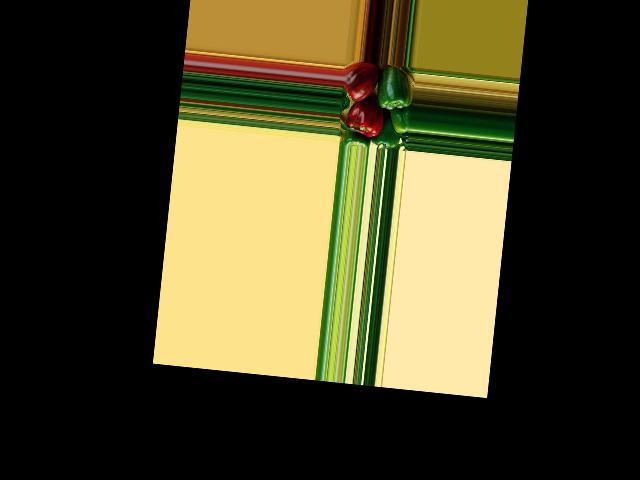bell_pepper: (342, 60, 378, 103)
